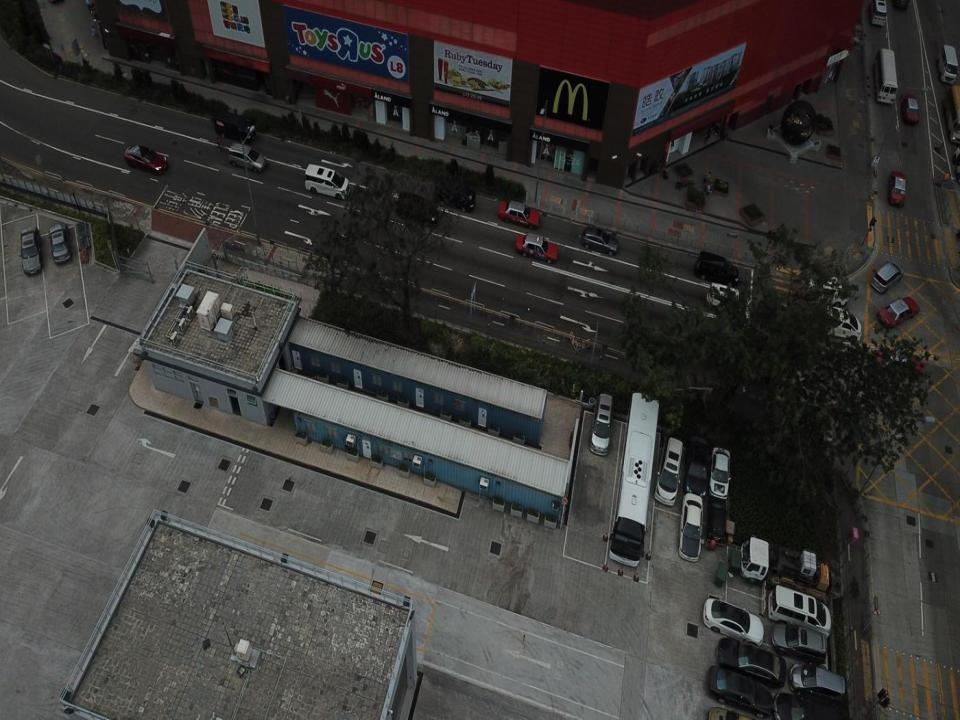bus: (608, 392, 660, 568)
car: (716, 635, 786, 690), (707, 662, 773, 718), (766, 583, 832, 635), (702, 595, 764, 645), (770, 621, 827, 665), (870, 340, 929, 382), (788, 663, 847, 700), (799, 268, 850, 310), (654, 436, 684, 507), (772, 689, 838, 719), (812, 305, 863, 343), (677, 491, 703, 562), (304, 162, 350, 201), (692, 250, 740, 285), (398, 188, 438, 229), (434, 174, 476, 213), (123, 142, 169, 176), (590, 391, 614, 456), (705, 494, 733, 549), (876, 295, 920, 329), (515, 232, 559, 263), (226, 140, 268, 172), (497, 199, 540, 230), (684, 444, 708, 497), (580, 225, 620, 256), (709, 445, 731, 497), (46, 222, 73, 264), (871, 261, 904, 294), (21, 227, 43, 276), (706, 280, 740, 310), (887, 169, 907, 205), (902, 90, 918, 122)
truck: (738, 536, 829, 600)
van: (875, 48, 899, 109), (214, 108, 254, 143), (937, 44, 958, 83)
